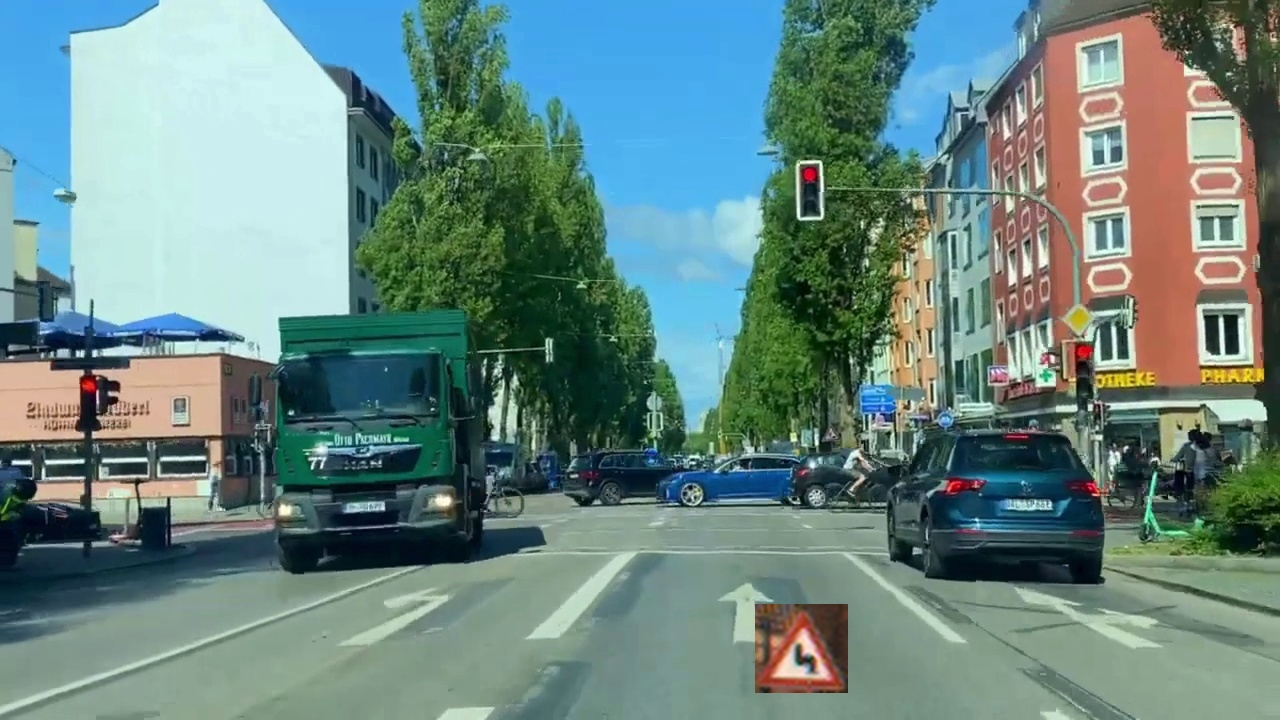Double curve: (755, 604, 848, 693)
